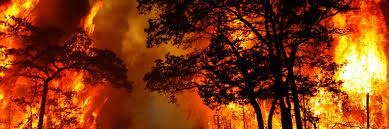fire: (0, 0, 106, 129), (319, 3, 389, 126)
